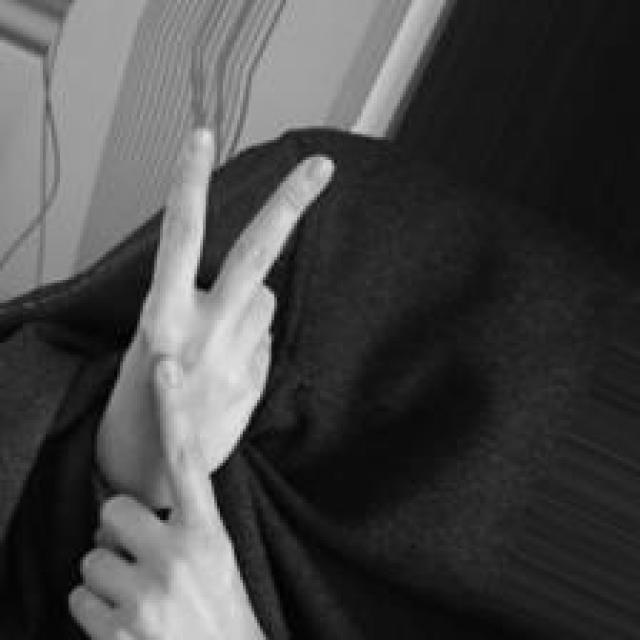Y: (68, 124, 339, 640)
